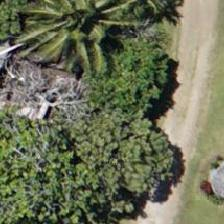coconut_tree: (33, 0, 123, 68)
